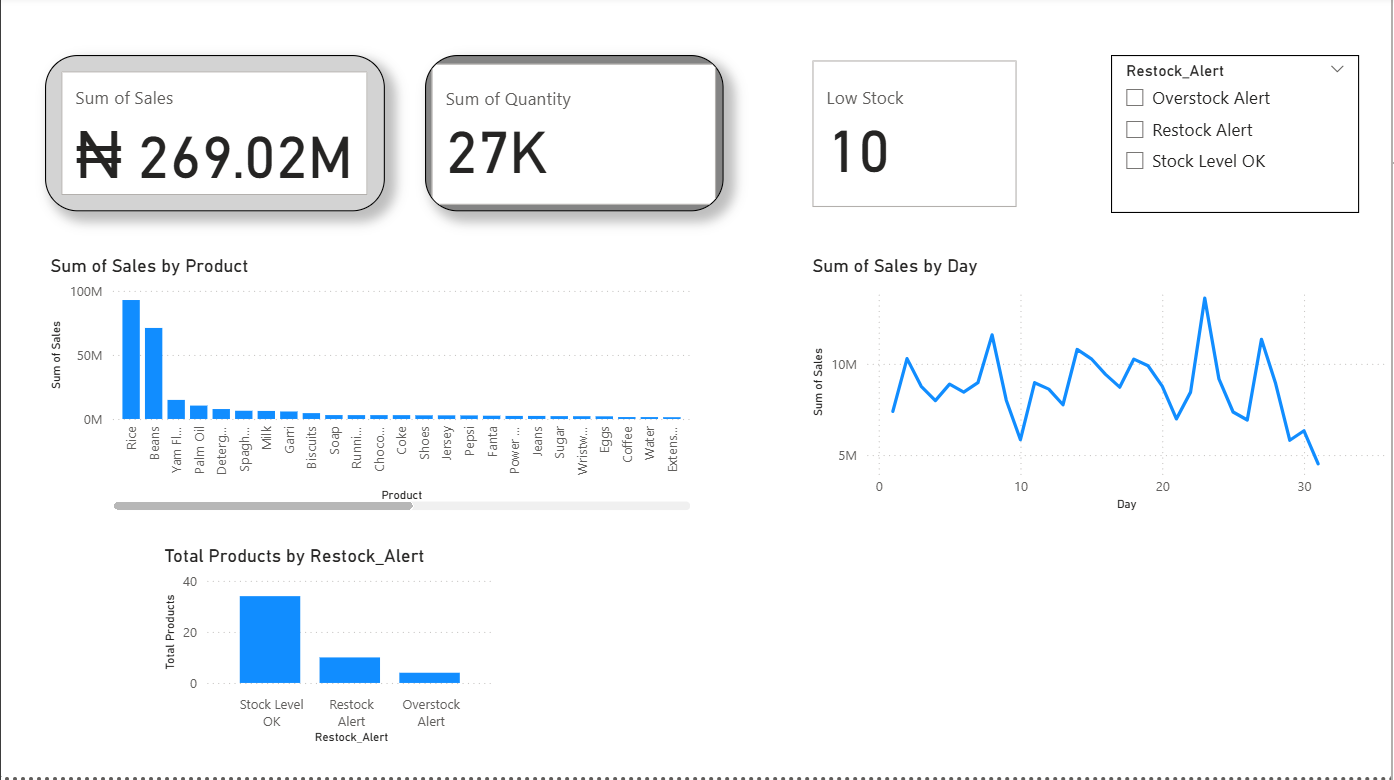

This screenshot's page, from the dashboard's own definition file:
{"tool":"powerbi","page":{"name":"Page 1","canvas":[1280,720],"ordinal":0},"visuals":[{"type":"lineChart","fields":{"Category":["Sales Data.Date.Variation.Date Hierarchy.Day"],"Y":["Sum(Sales Data.Sales)"]},"box":[741.5,240,537.9,240],"z":0},{"type":"columnChart","fields":{"Y":["Sum(Sales Data.Sales)"],"Category":["Sales Data.Product"]},"box":[41.4,240,599.2,240],"z":1000},{"type":"clusteredColumnChart","fields":{"Category":["Inventory.Restock_Alert"],"Y":["Sales Data.Total Products"]},"box":[145.7,506.5,314.5,187],"z":2000},{"type":"slicer","fields":{"Values":["Inventory.Restock_Alert"]},"box":[1022.9,54.6,228.4,145.7],"z":3000},{"type":"cardVisual","fields":{"Data":["Sum(Sales Data.Sales)"]},"box":[41.4,54.6,312.8,144],"z":4000},{"type":"cardVisual","fields":{"Data":["Sum(Sales Data.Quantity)"]},"box":[390.6,54.6,274.8,144],"z":5000},{"type":"cardVisual","fields":{"Data":["Inventory.Low Stock"]},"box":[741.5,54.6,198.6,145.7],"z":6000}]}

Visuals, with their boxes in screenshot pixels (x1, y1, x2, y2), scaled from the page's 1280x720 canvas onto the 1394x780 screenshot:
lineChart - Sales Data.Date.Variation.Date Hierarchy.Day x Sum(Sales Data.Sales): select_region(808, 260, 1393, 520)
columnChart - Sum(Sales Data.Sales) x Sales Data.Product: select_region(45, 260, 698, 520)
clusteredColumnChart - Inventory.Restock_Alert x Sales Data.Total Products: select_region(159, 549, 501, 751)
slicer - Inventory.Restock_Alert: select_region(1114, 59, 1363, 217)
cardVisual - Sum(Sales Data.Sales): select_region(45, 59, 386, 215)
cardVisual - Sum(Sales Data.Quantity): select_region(425, 59, 725, 215)
cardVisual - Inventory.Low Stock: select_region(808, 59, 1024, 217)
